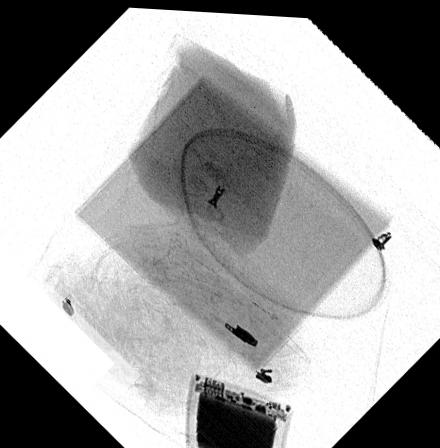Powerbank: (184, 371, 293, 448)
